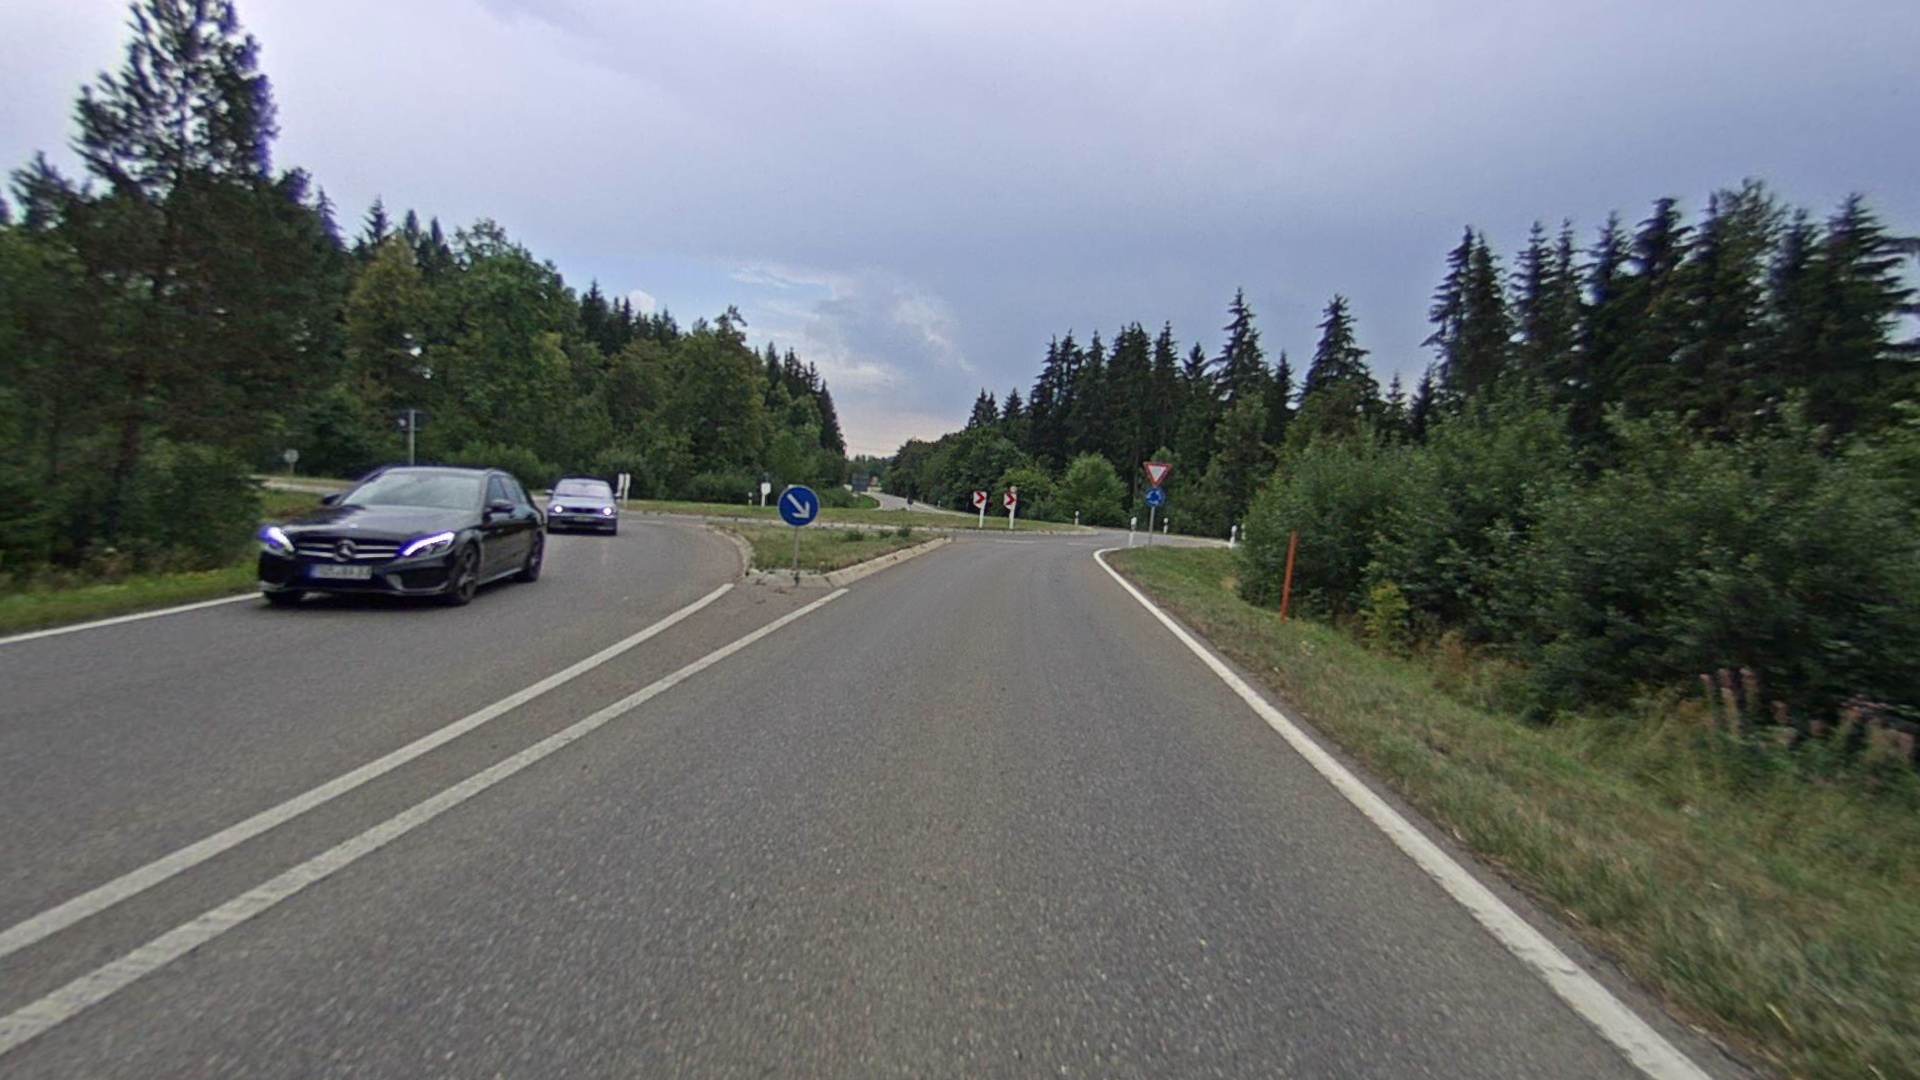car: (255, 464, 546, 611), (547, 479, 620, 535)
